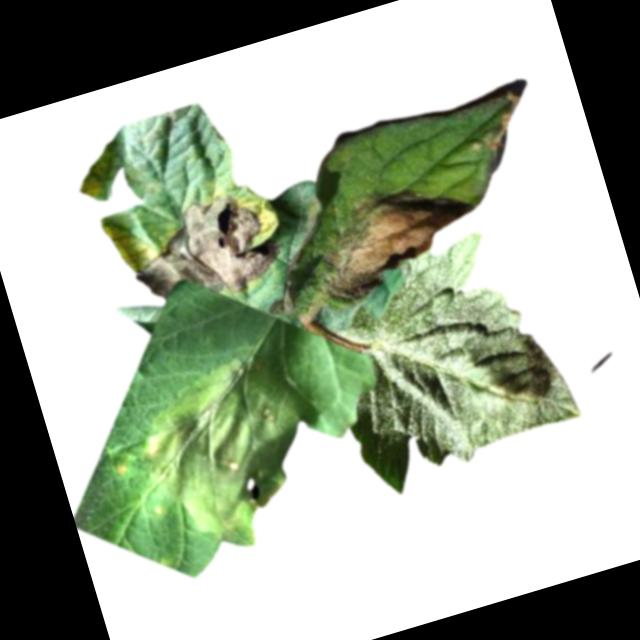Late_blight: (124, 343, 340, 567), (298, 166, 491, 309), (117, 178, 293, 320), (460, 87, 537, 174)
healthy: (301, 214, 591, 505)
